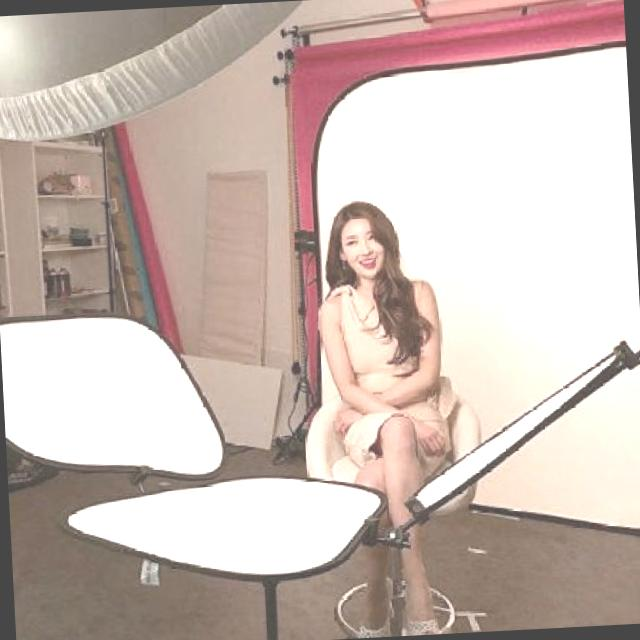Person: (276, 186, 508, 640)
